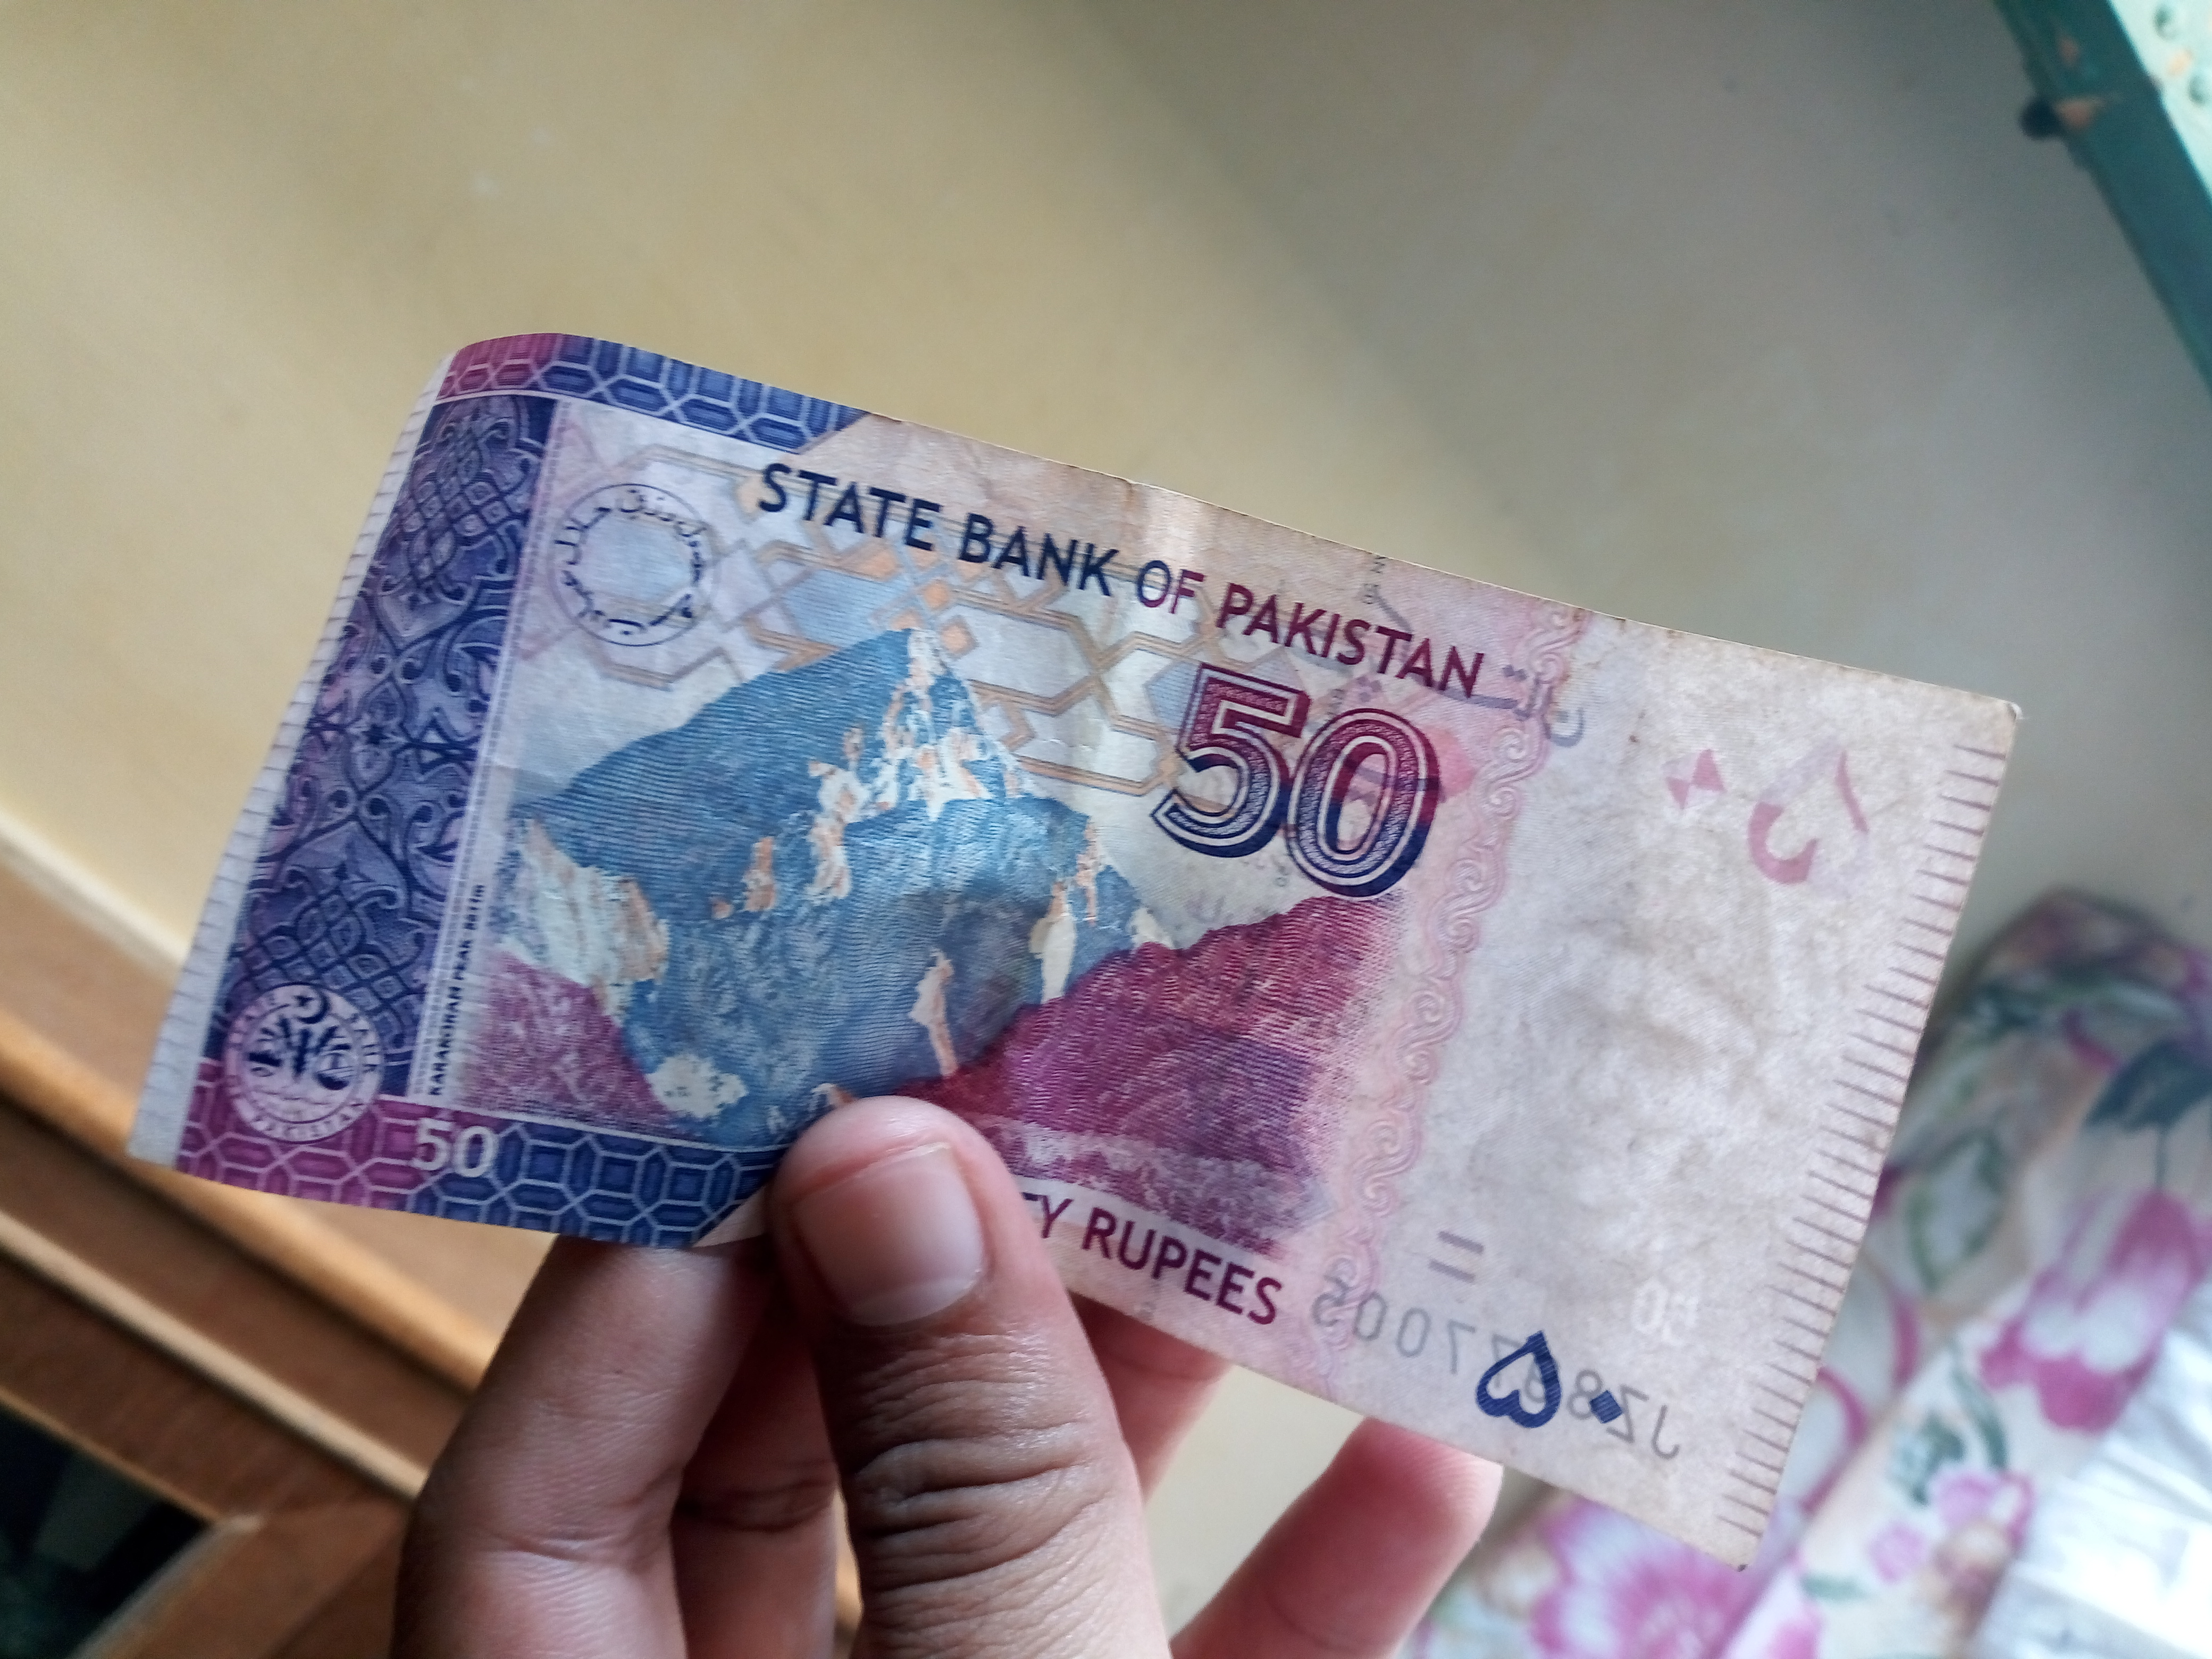50 rupee: (89, 289, 1946, 1521), (1035, 626, 1480, 950)
